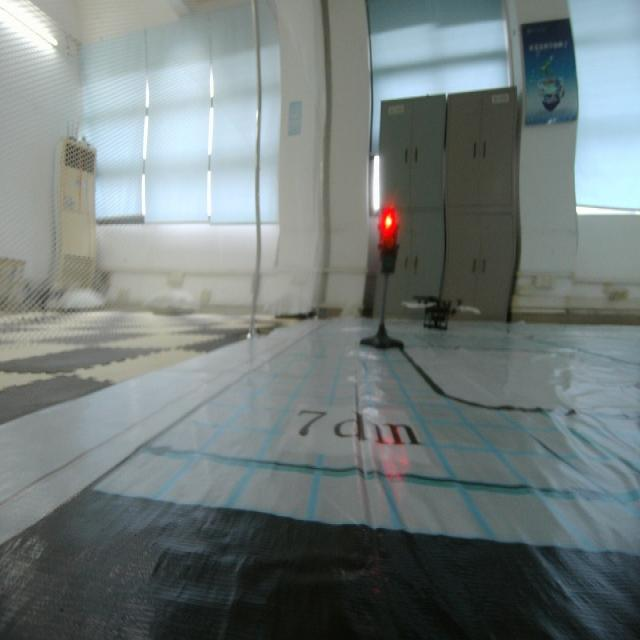red: (373, 200, 399, 283)
